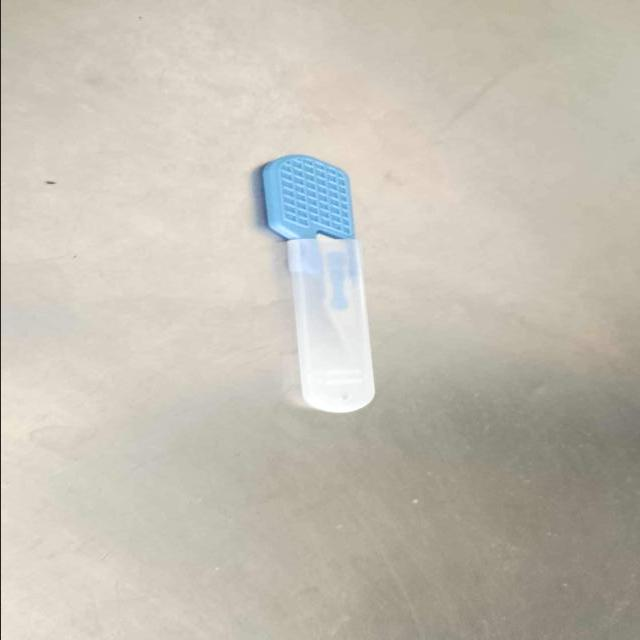General: (258, 154, 355, 243)
Sharps: (259, 154, 377, 415)
